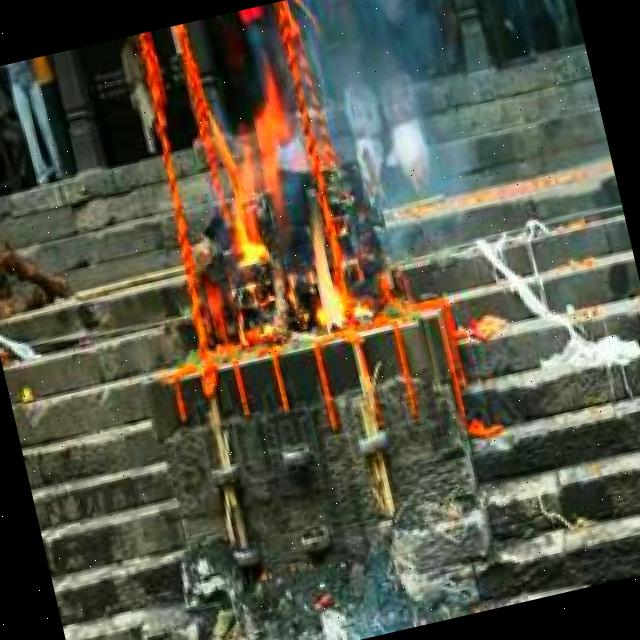fire: (197, 78, 360, 352)
